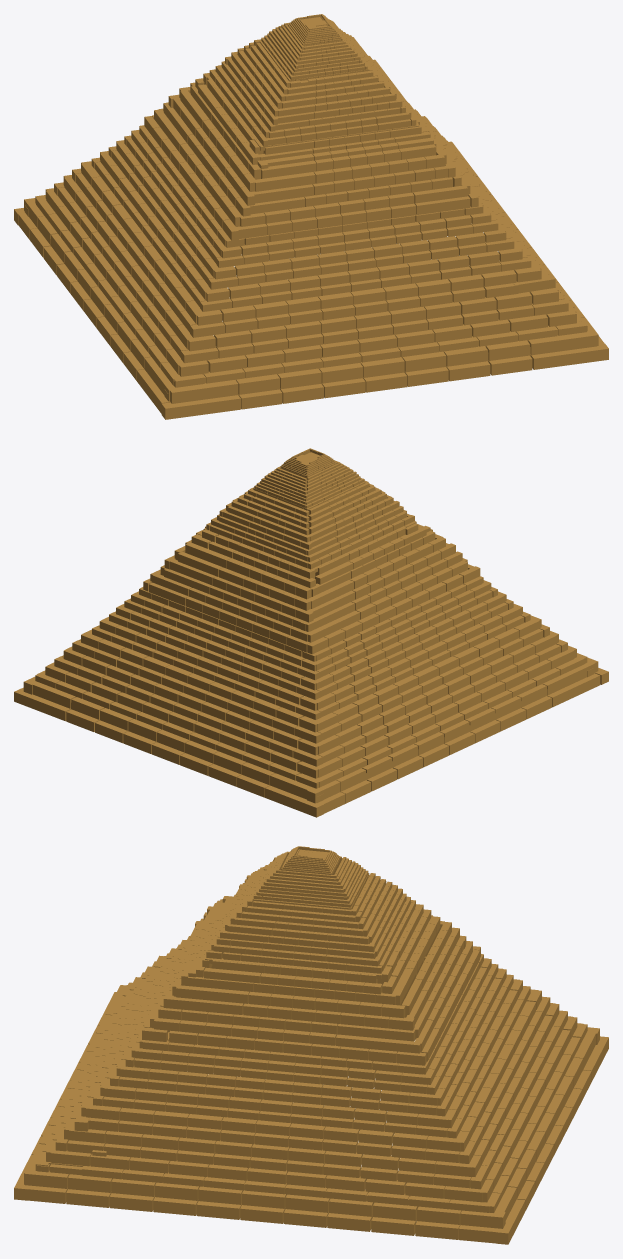
Rendered from Piramid.obj.
3 views of the same model, one above another, from view 1: azimuth 30°, elevation 25°; view 2: azimuth 150°, elevation 25°; view 3: azimuth 270°, elevation 25° (orthographic). The views are drawn at different scales.
Parts seen in each view (by area): view 1: Box18430, Box18464, Box18458, Box18455, Box18473, Box18456, Box18463, Box18460, Box18472, Box18438, Box18450, Box18424 (+8 smaller); view 2: no part large enough to name; view 3: Box18442, Box18451, Box18432, Box18423, Box18440, Box18446, Box18445, Box18420, Box18436, Box18426, Box18443, Box18427 (+18 smaller).
Part boxes in pixels (x1,y1,x2,y2): Box18430: [161, 400, 205, 419]; Box18464: [319, 363, 363, 383]; Box18458: [402, 351, 446, 372]; Box18455: [528, 334, 572, 355]; Box18473: [486, 340, 529, 360]; Box18456: [277, 368, 321, 389]; Box18463: [444, 346, 487, 366]; Box18460: [361, 357, 404, 377]; Box18472: [236, 374, 279, 394]; Box18438: [363, 372, 407, 392]; Box18450: [488, 355, 532, 375]; Box18424: [446, 361, 490, 381]; Box18442: [460, 1210, 505, 1228]; Box18451: [371, 1217, 416, 1235]; Box18432: [327, 1213, 372, 1231]; Box18423: [109, 1193, 154, 1211]; Box18440: [196, 1201, 241, 1219]; Box18446: [24, 1168, 68, 1188]; Box18445: [283, 1209, 328, 1227]; Box18420: [240, 1205, 285, 1223]; Box18436: [66, 1189, 111, 1207]; Box18426: [153, 1197, 198, 1215]; Box18443: [415, 1221, 460, 1239]; Box18427: [373, 1202, 417, 1220].
Size of the model in its own units: 365 by 193 by 380.
